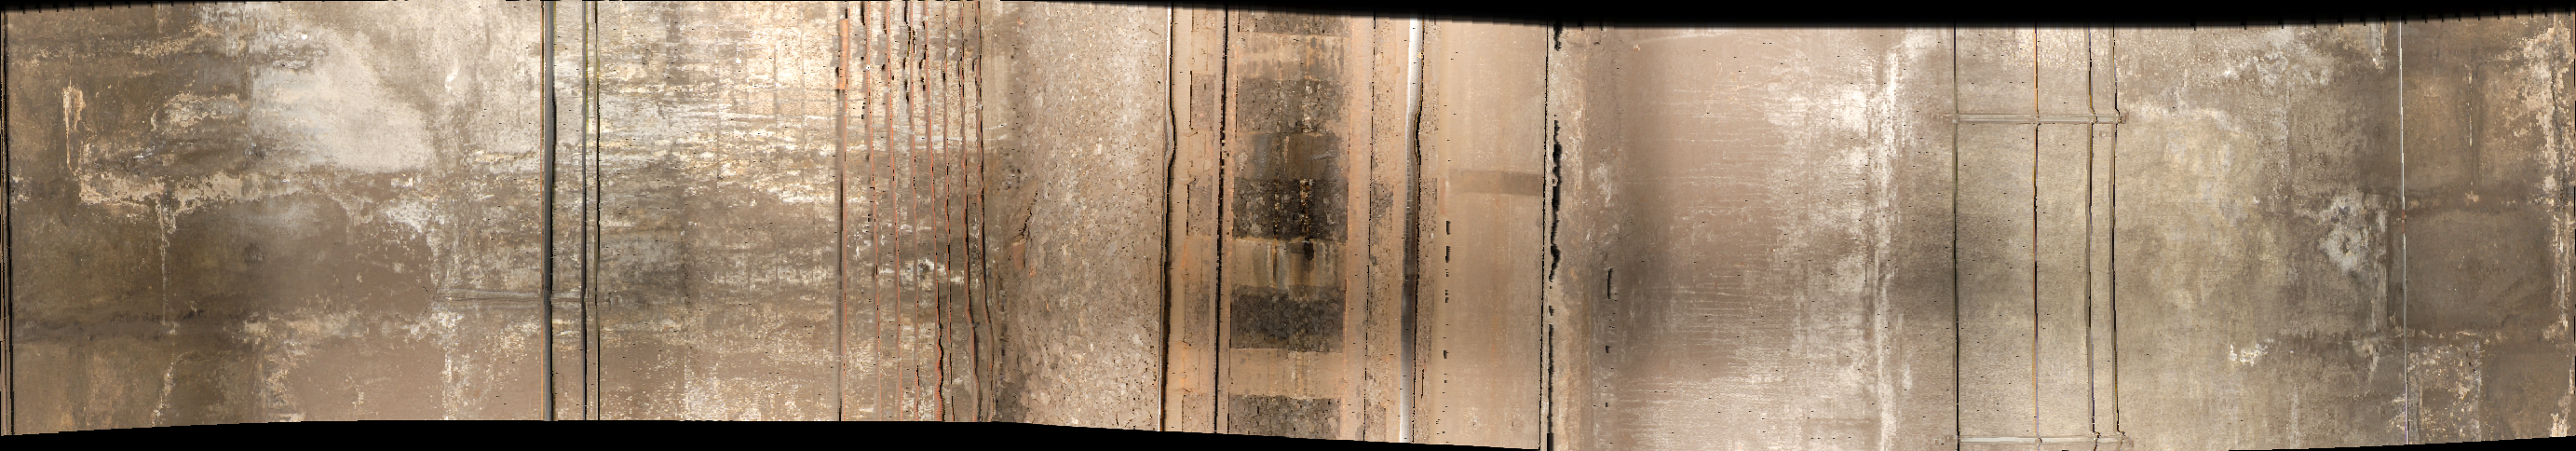pipes: (826, 10, 999, 451), (2027, 30, 2132, 451), (532, 2, 608, 451), (1940, 26, 1973, 451)
tracks: (1158, 20, 1429, 451)
